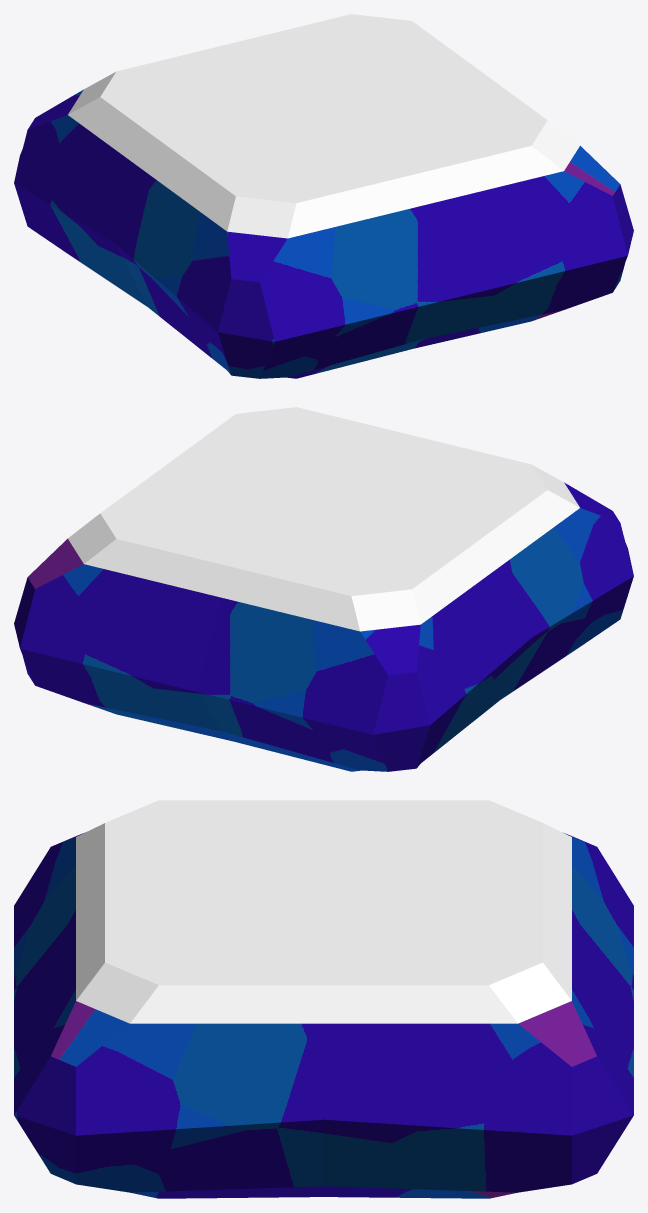
File: Platform2 (1).fbx
3 renders of one model, top to bottom at view 1: azimuth 30°, elevation 25°; view 2: azimuth 150°, elevation 25°; view 3: azimuth 270°, elevation 25°, orthographic. The views are drawn at different scales.
Visible parts, largest first — view 1: Platform; view 2: Platform; view 3: Platform.
Part boxes in pixels (<box>): Platform: <box>14,14,633,378</box>; Platform: <box>14,407,633,771</box>; Platform: <box>14,800,633,1198</box>.
Size of the model in its own units: 236 by 95.06 by 250.
1 material, 1 textured.
